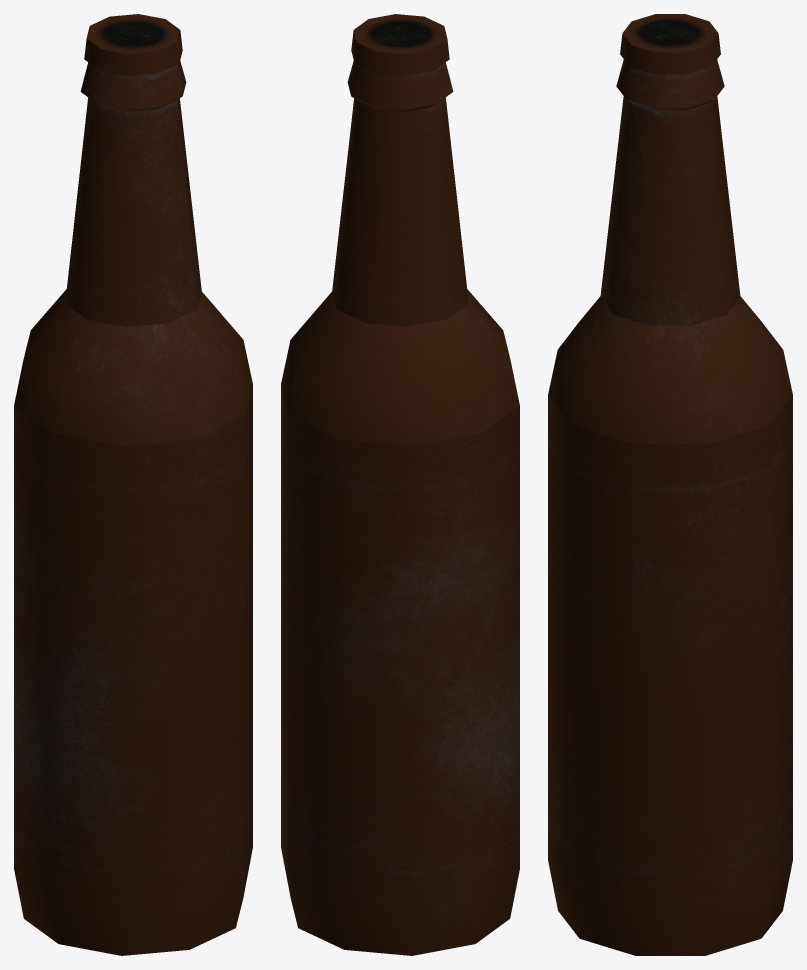
File: bottle2.obj
The picture shows the model from 3 angles, left to right: view 1: azimuth 30°, elevation 25°; view 2: azimuth 150°, elevation 25°; view 3: azimuth 270°, elevation 25°; orthographic projection.
Visible parts, largest first — view 1: Beer_Bottle1_Material_0; view 2: Beer_Bottle1_Material_0; view 3: Beer_Bottle1_Material_0.
Part boxes in pixels (box(x1,y1,x2,y2)): Beer_Bottle1_Material_0: box(14, 14, 252, 955); Beer_Bottle1_Material_0: box(281, 14, 519, 955); Beer_Bottle1_Material_0: box(548, 14, 792, 955).
Bounding box in the file's own units: 0.8105 × 3.38 × 0.8522.
1 material, 1 textured.
